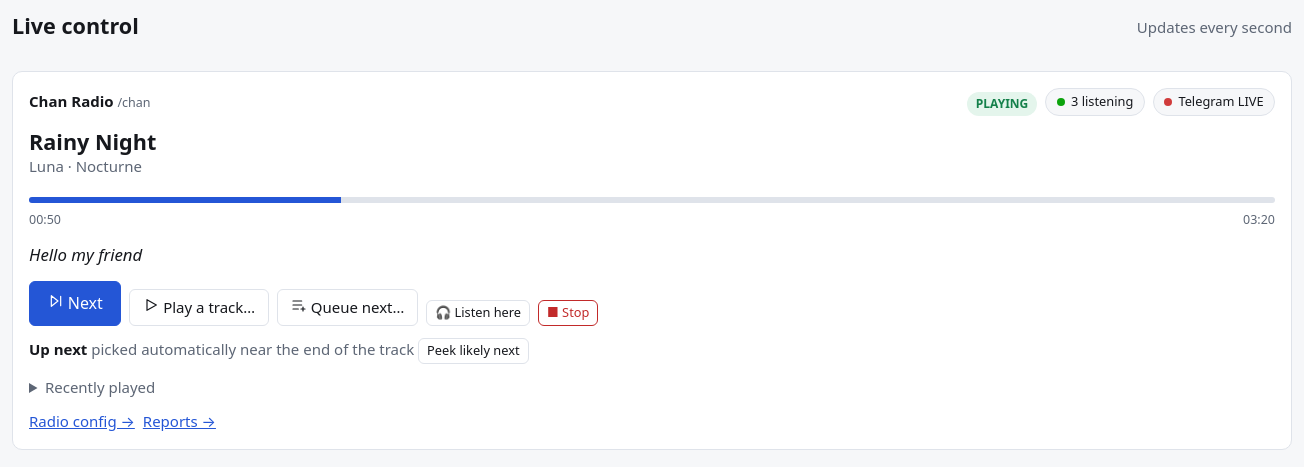
Test: <Live /> control room › Next sends skip with the current transition token (a stale click is ignored by the server)
Click the button "Next" at (75, 303), box [29,281,122,326]
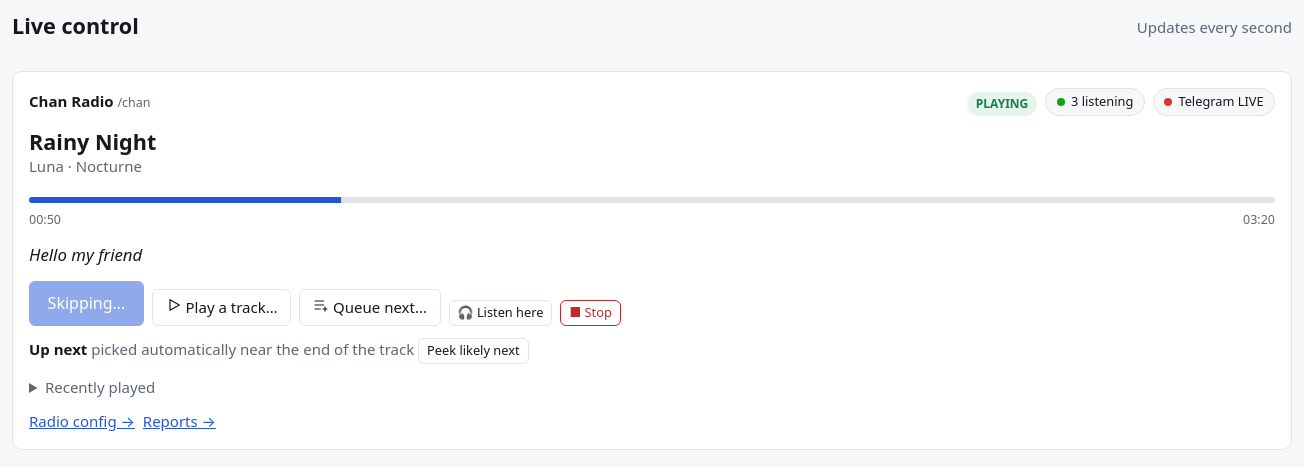
Now the button "Skipping…" is disabled, box [29,281,144,326]
